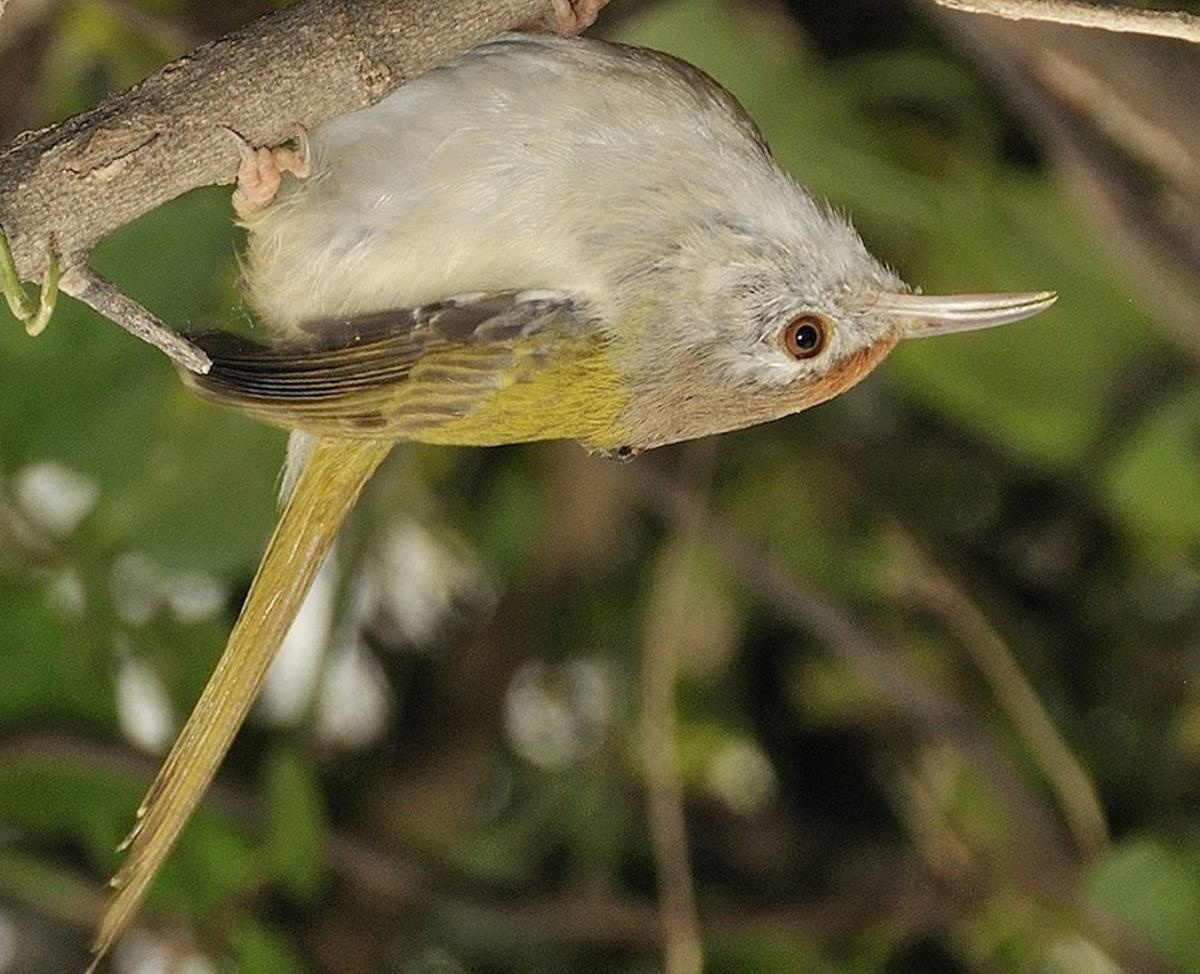tailorbird: (64, 6, 1054, 958)
